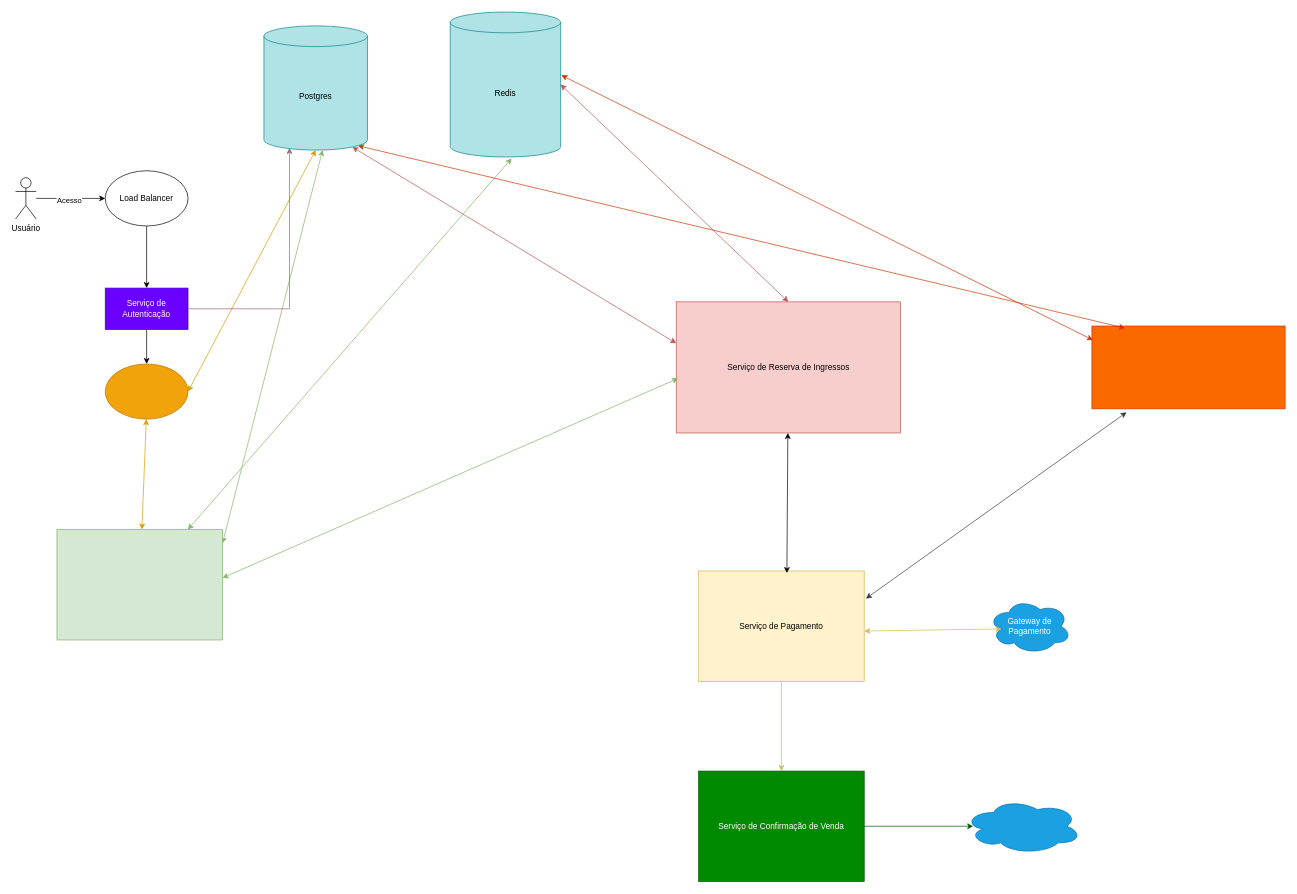
Some shapes in this 1297 by 894 pixel diagram are drawn without their labels. Each missing label, with the centre of its shape:
"Fila de Acesso" goes at (146,391).
"Serviço de Liberação de Reserva" goes at (1188,367).
"Serviço de Verificação de Disponibilidade de Ingressos" goes at (139,584).
"SMTP/Envio de Email" goes at (1023,826).
